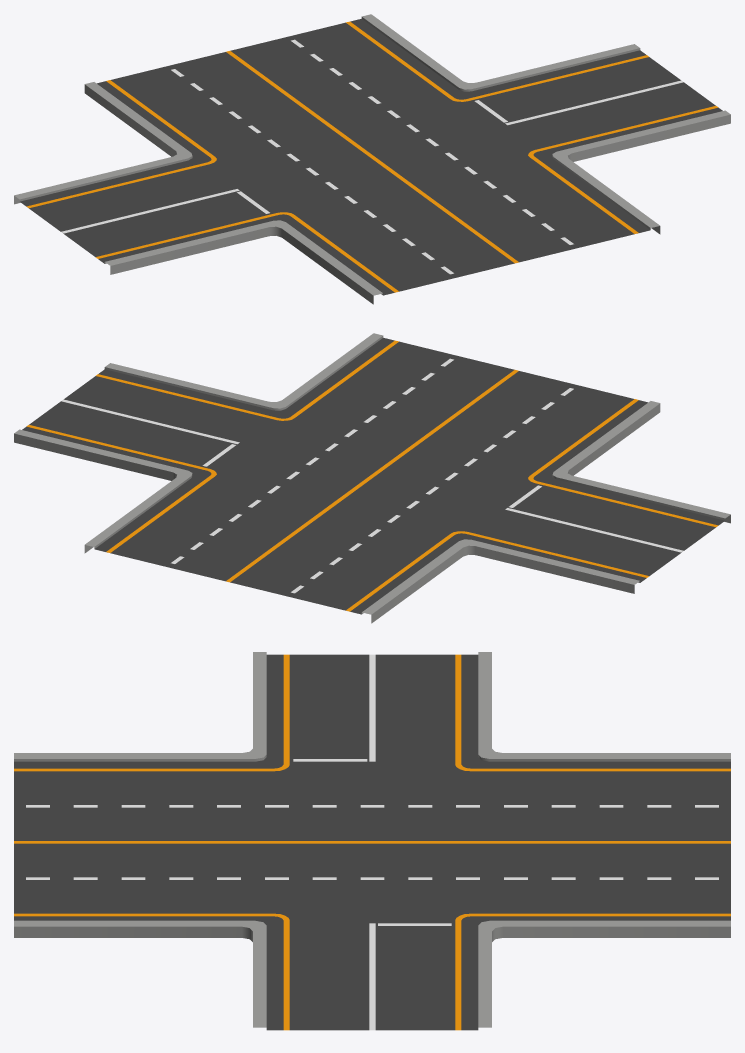
Rendered from Road_A_2L_2_5.fbx.
3 views of the same model, one above another, from view 1: azimuth 30°, elevation 25°; view 2: azimuth 150°, elevation 25°; view 3: azimuth 270°, elevation 25° (orthographic). The views are drawn at different scales.
Parts seen in each view (by area): view 1: Road_A_2L_2_5; view 2: Road_A_2L_2_5; view 3: Road_A_2L_2_5.
Boxes of the visible parts, <box> form: Road_A_2L_2_5: <box>14,14,730,304</box>; Road_A_2L_2_5: <box>14,333,730,623</box>; Road_A_2L_2_5: <box>14,652,730,1030</box>.
Size of the model in its own units: 2975 by 41.48 by 2400.
